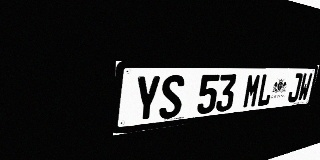3: (215, 74, 237, 112)
5: (196, 74, 220, 115)
J: (287, 73, 303, 103)
L: (256, 74, 275, 107)
M: (242, 74, 262, 109)
S: (158, 75, 185, 120)
W: (297, 73, 313, 102)
Y: (133, 75, 161, 123)
